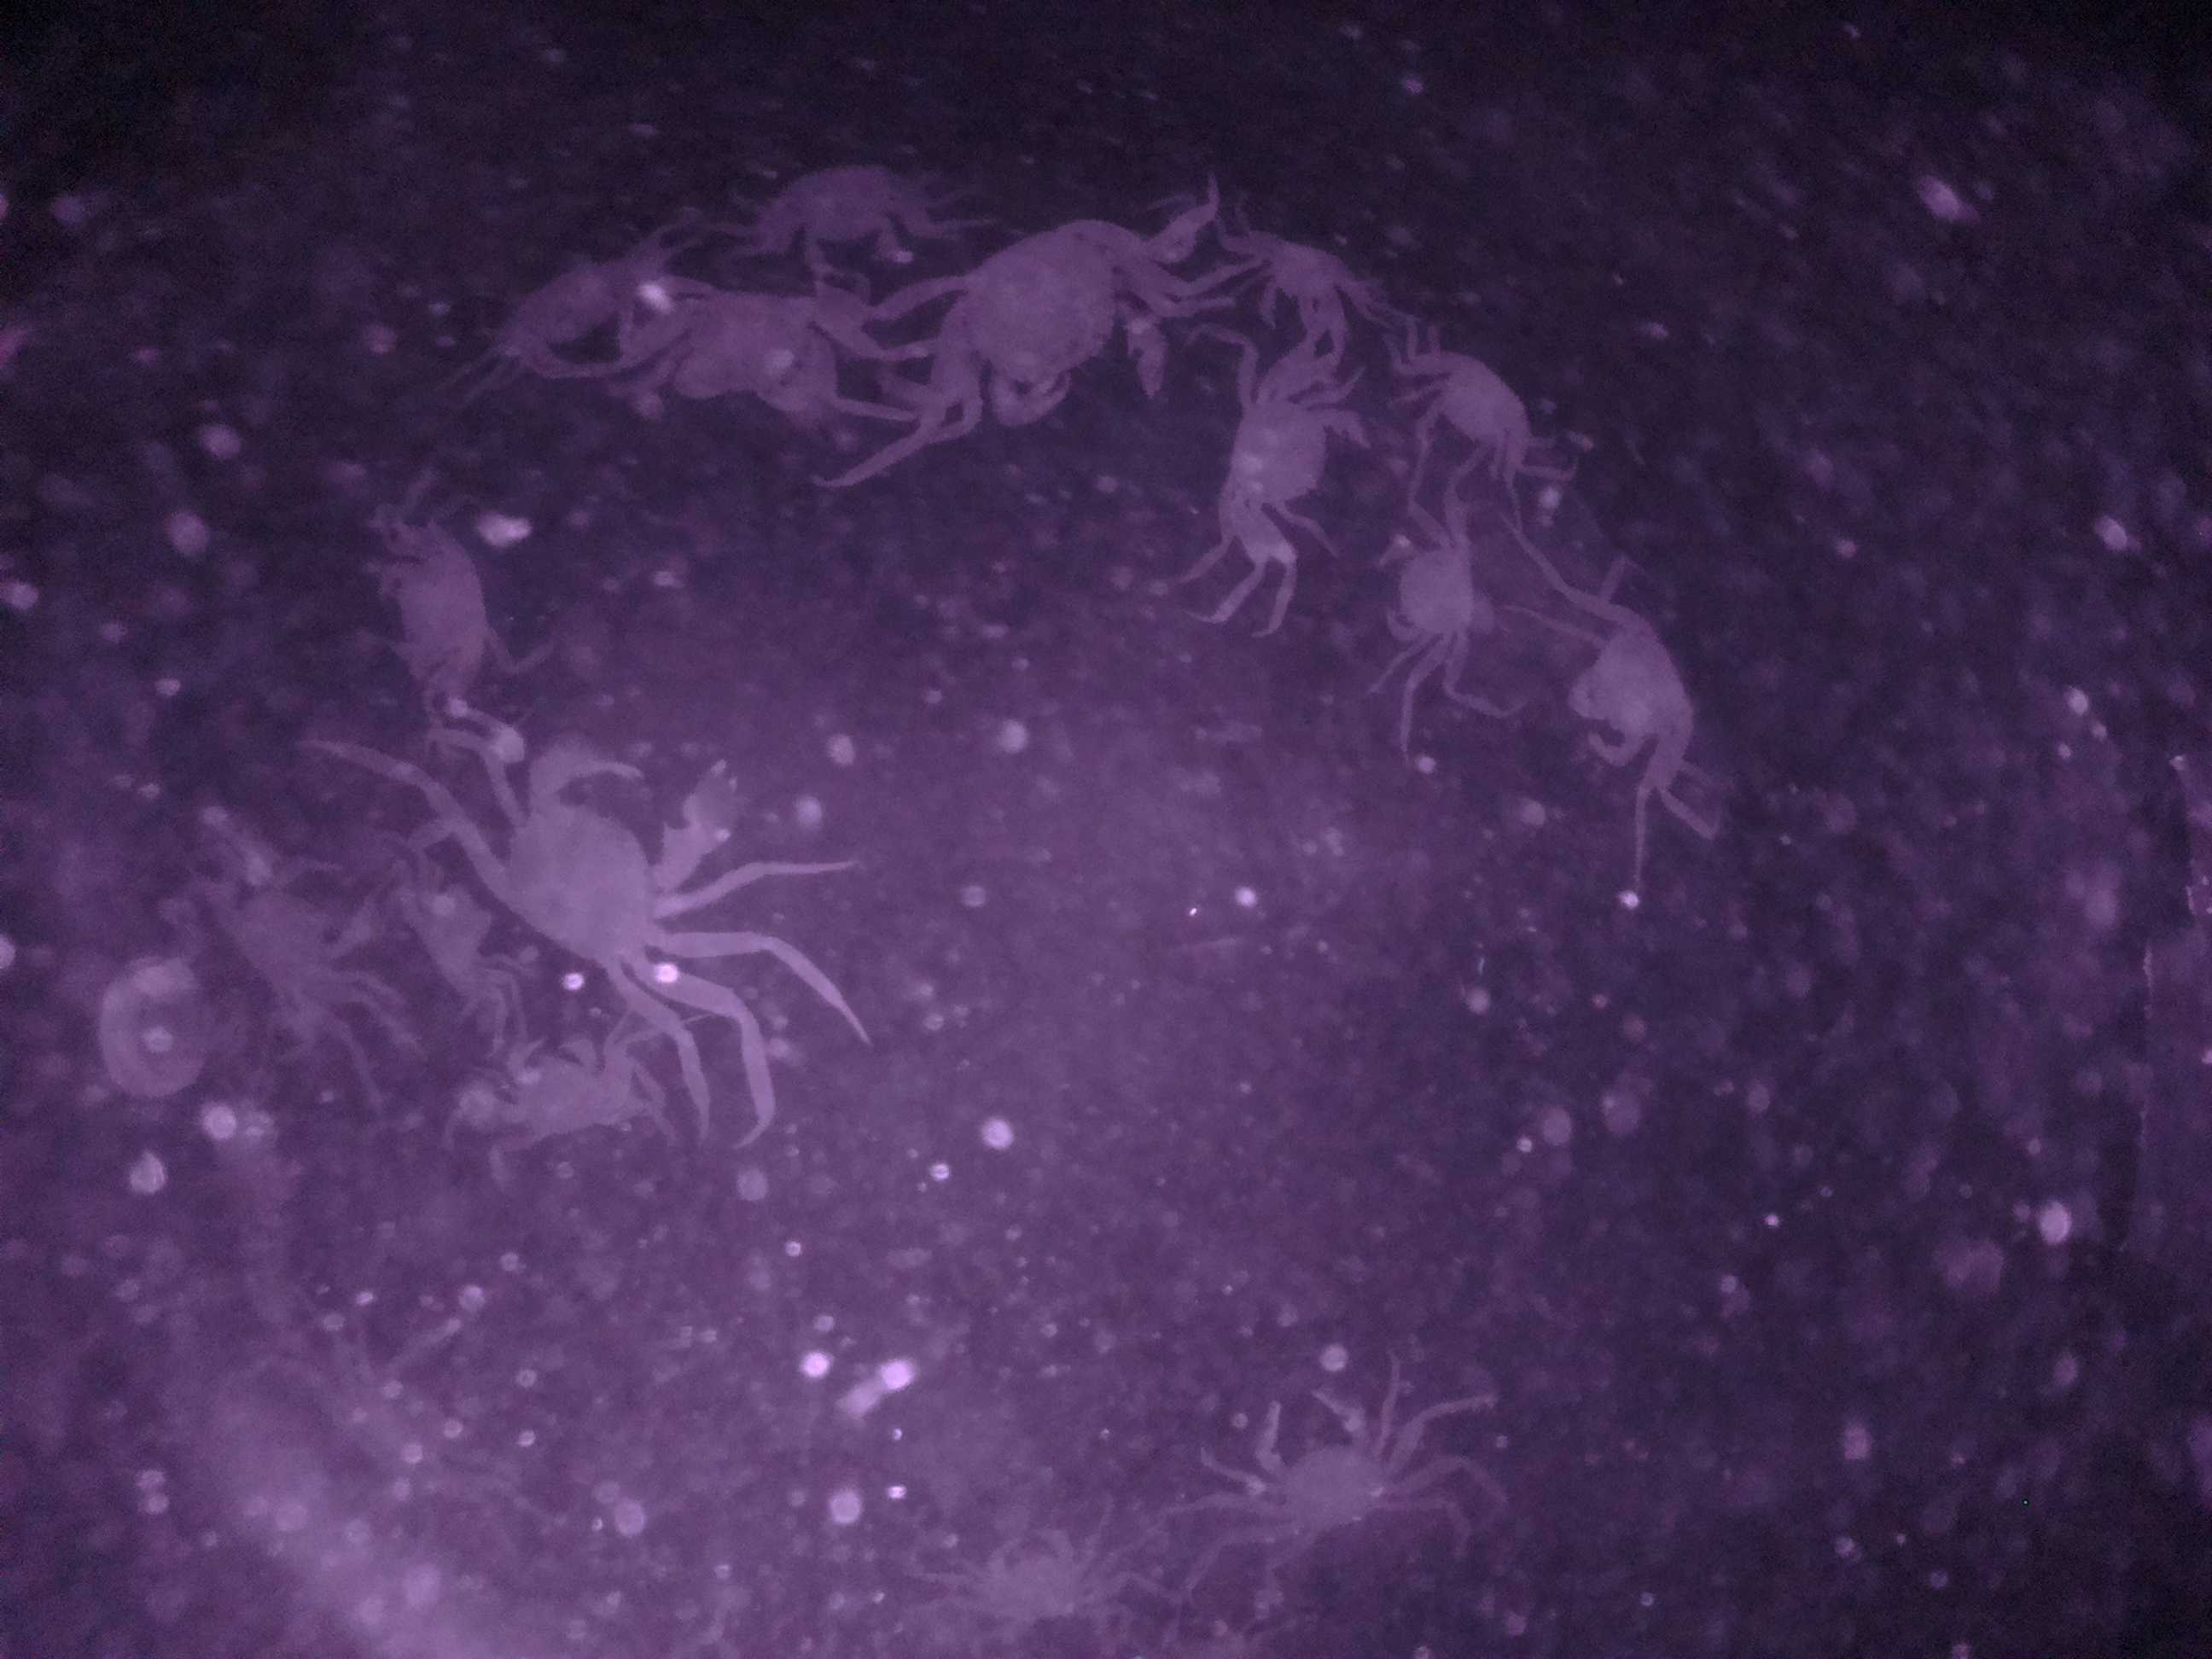Crab: (458, 725, 752, 1028), (920, 207, 1195, 432), (1224, 1375, 1439, 1574), (1541, 603, 1712, 800), (1205, 376, 1372, 551), (1418, 331, 1575, 493), (1231, 209, 1393, 347), (1362, 511, 1489, 673), (763, 141, 918, 268)
